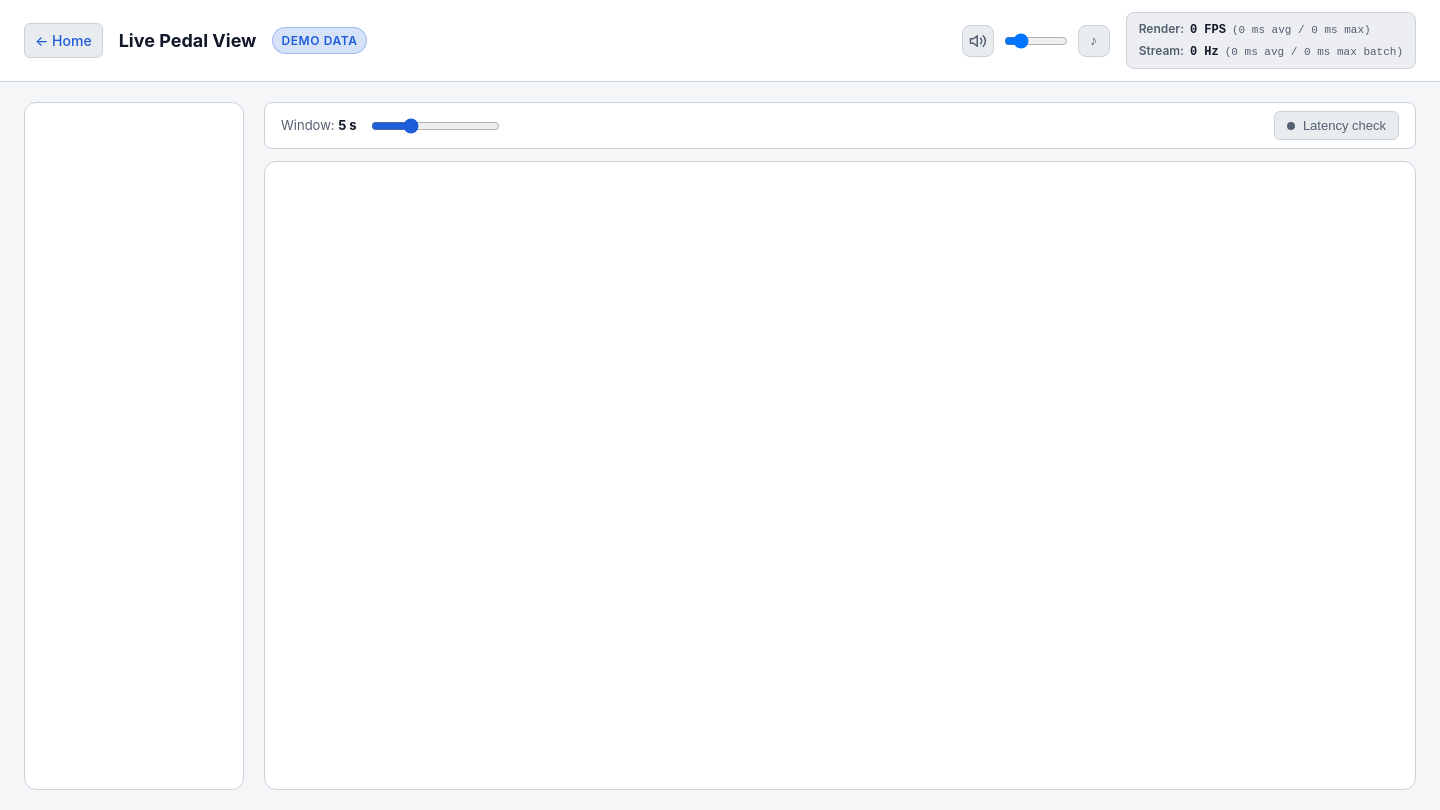
Test case: Live page (page.test.ts) › toggles latency check mode and renders flash hint
The image size is (1440, 810).
Click the button with test id "latency-toggle".
click(1336, 126)  # box [1274, 111, 1399, 140]
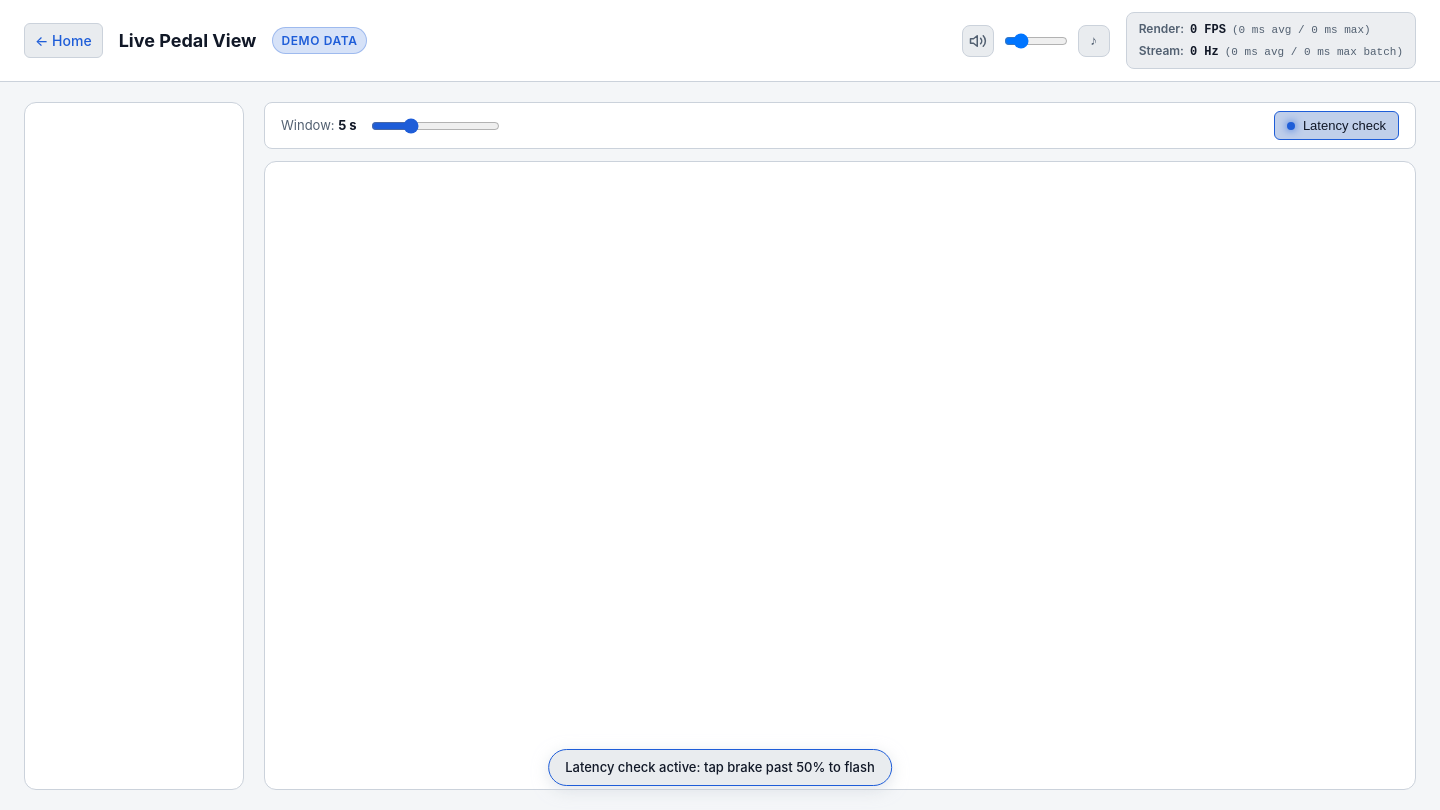
Now the element with test id "latency-hint" is shown, box [548, 748, 892, 786]
Click the button with test id "latency-toggle".
click(1336, 126)  # box [1274, 111, 1399, 140]
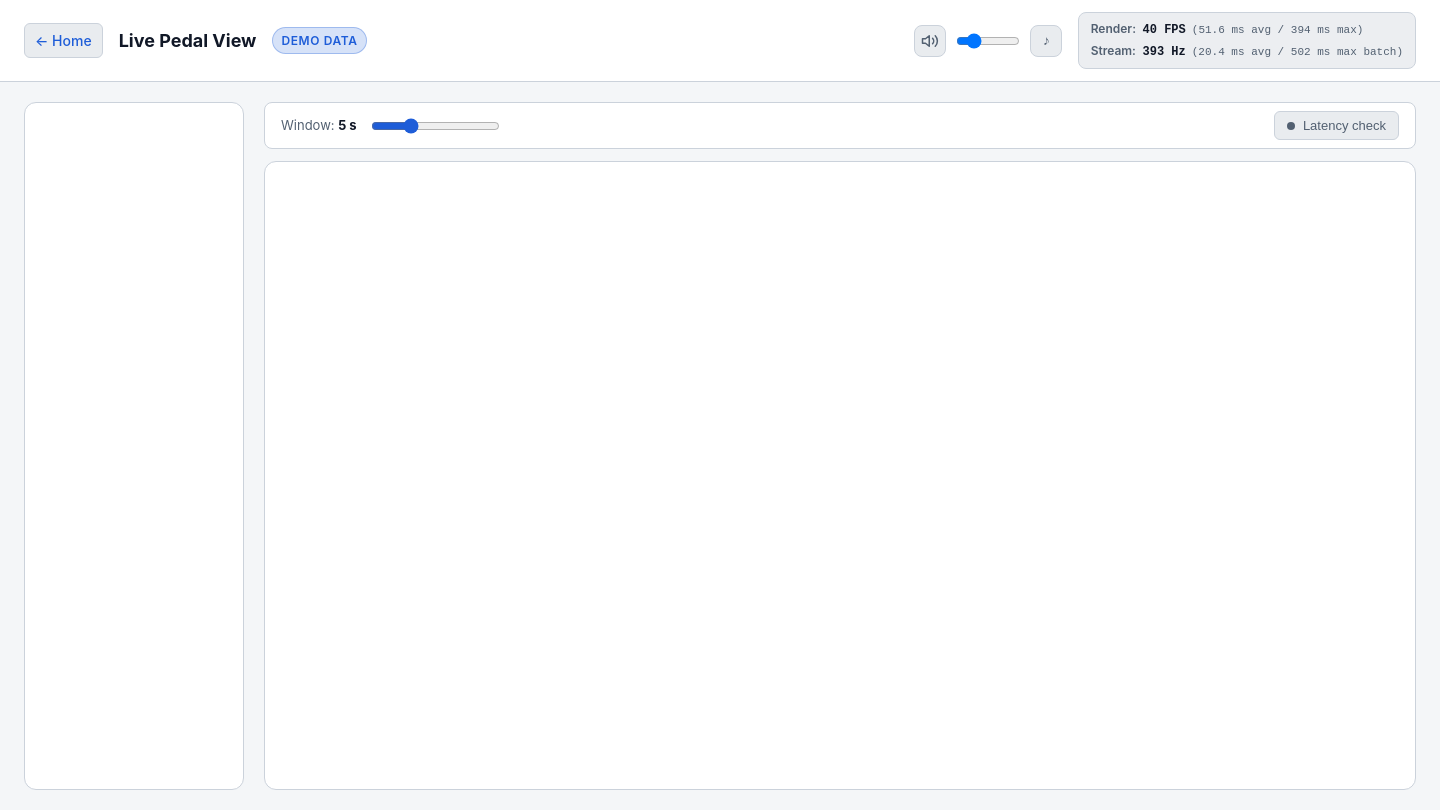
Now the element with test id "latency-hint" is gone
